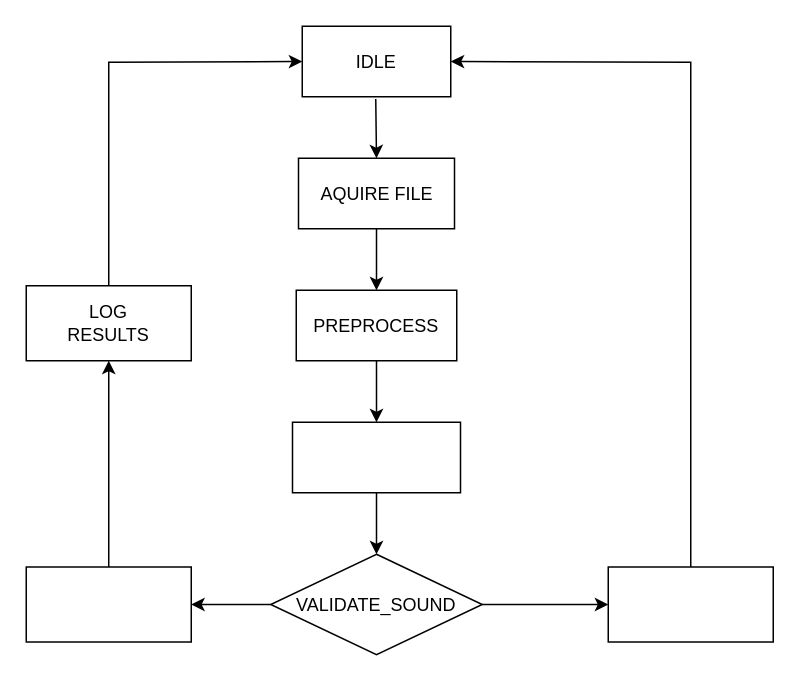
The diagram is 800 pixels wide and 681 high, and some of its shapes have lost their labels. Each missing label, with the centre of its shape:
"DISPLAY OUTPUT" belongs at (x=108, y=604).
"LOG ERROR" belongs at (x=690, y=604).
"RN_INFERENCE" belongs at (x=375, y=457).
